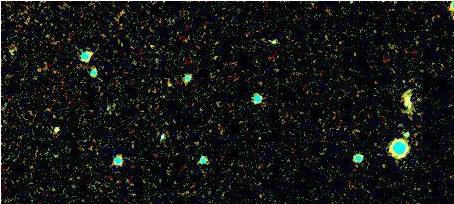star: (152, 65, 182, 95)
